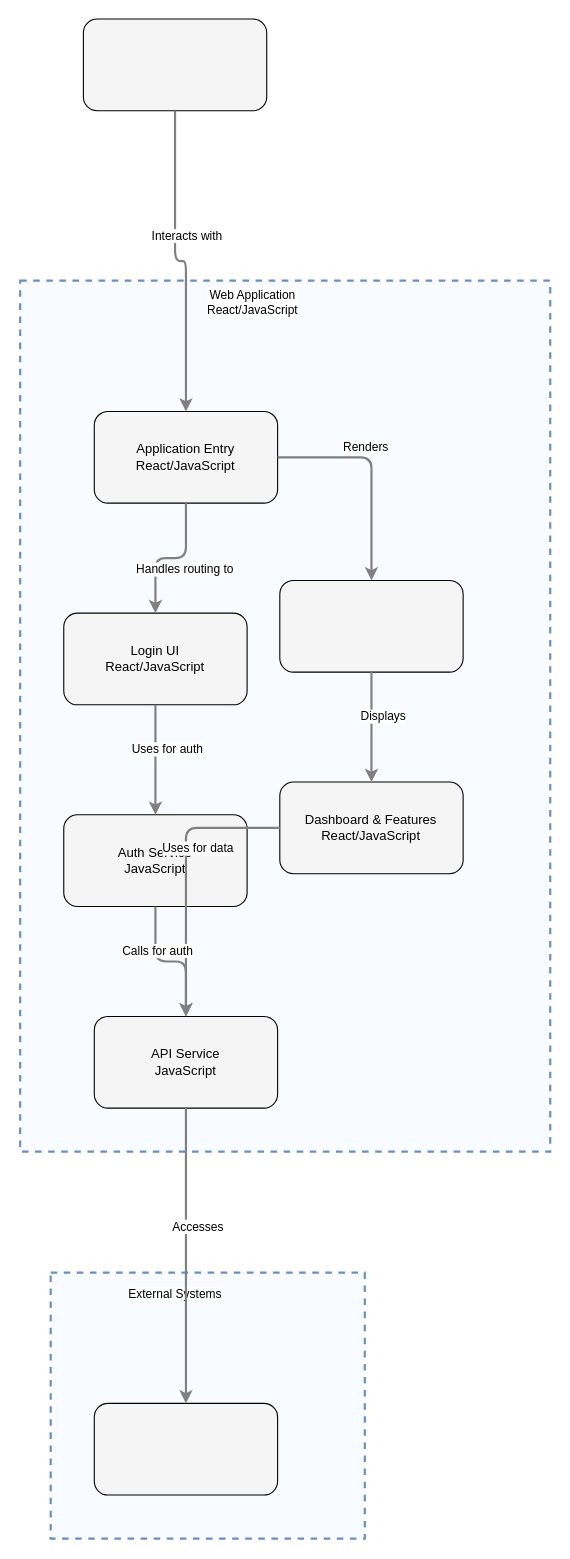
Image size: 570x1559. Some labels were removed from this diagram. Here are the shapes that lost their labels. From the top down, the centre of each, then its label:
At (174,64): "User External Actor".
At (371,625): "Core UI Layout React/JavaScript".
At (185,1448): "Backend APIs HTTP/REST, etc.".
